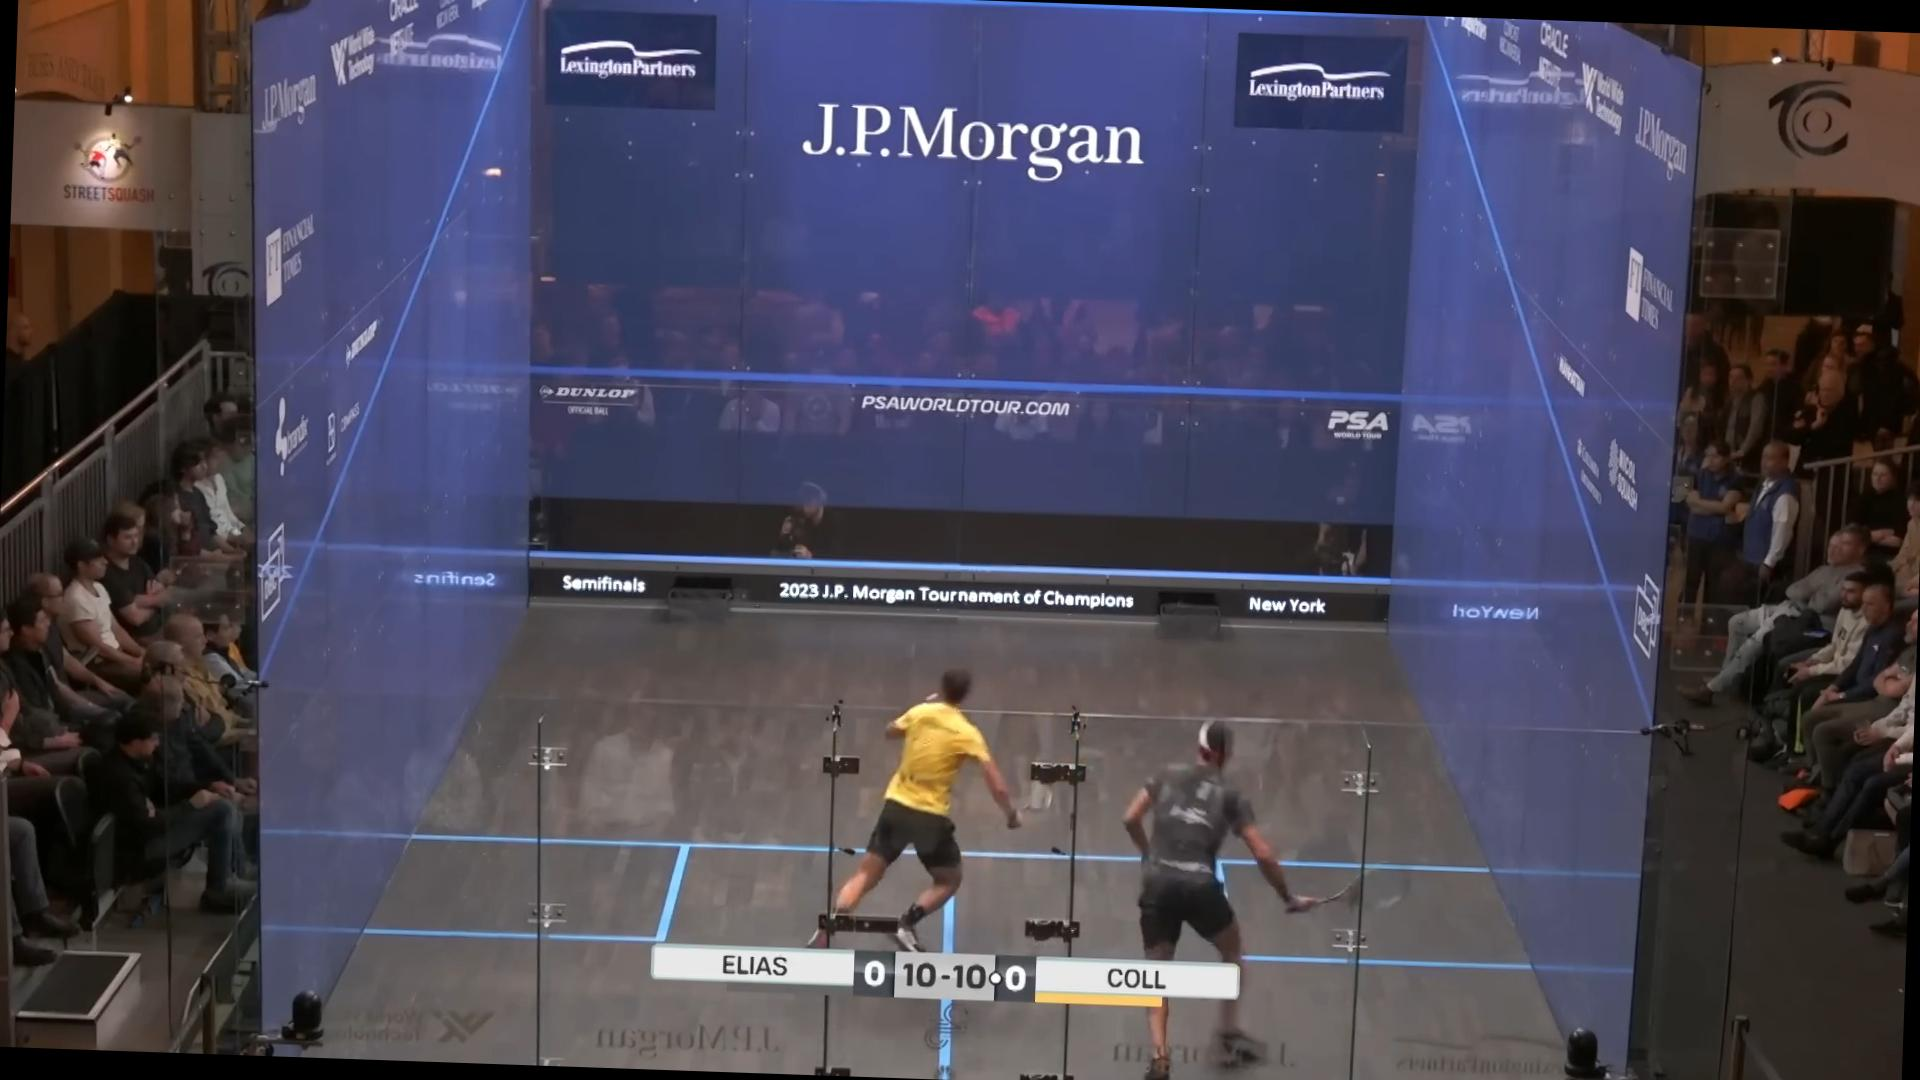Racket: (1299, 851, 1429, 922), (1002, 774, 1072, 827)
